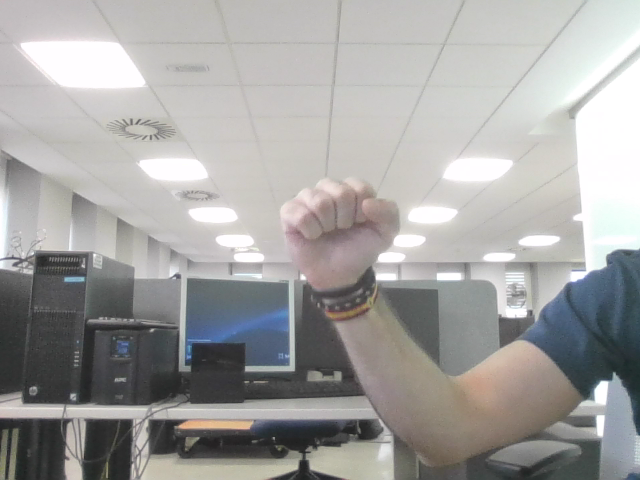Puño: (293, 187, 385, 258)
